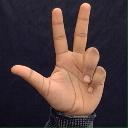hand: (9, 2, 106, 117)
